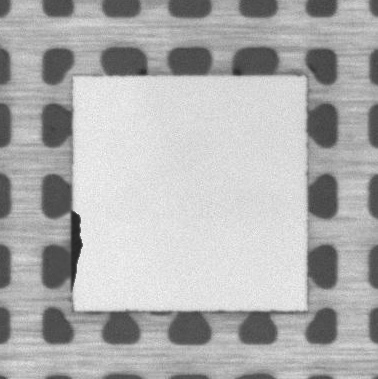DIE_BROKEN: (68, 206, 85, 294)
